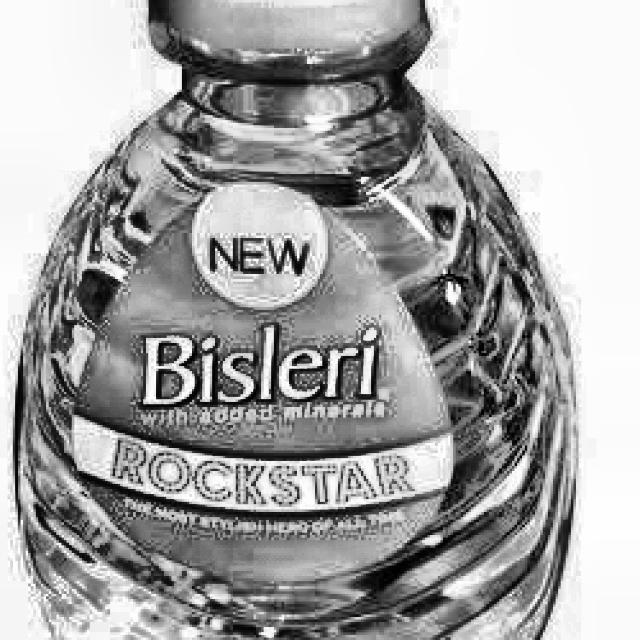bottle: (18, 0, 594, 640)
